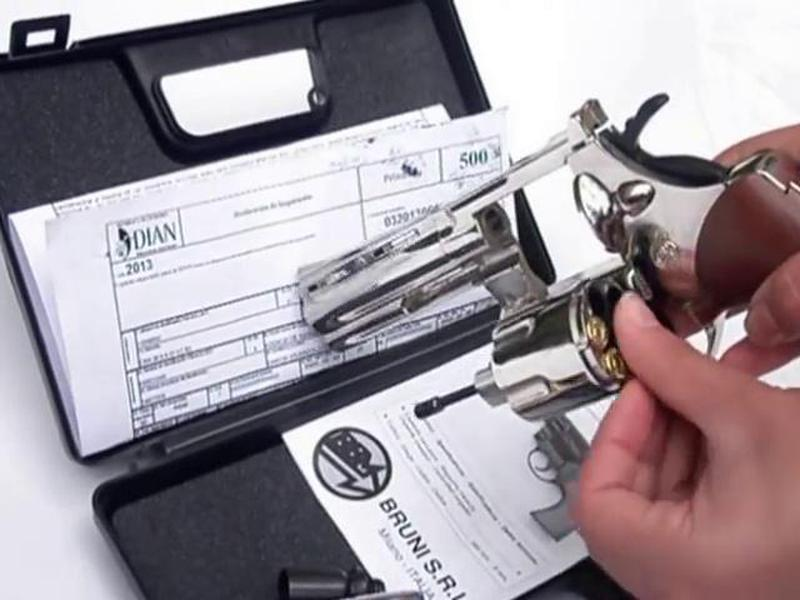Revolver: (248, 103, 800, 373)
